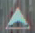Speed Breaker ahead: (3, 3, 34, 31)
